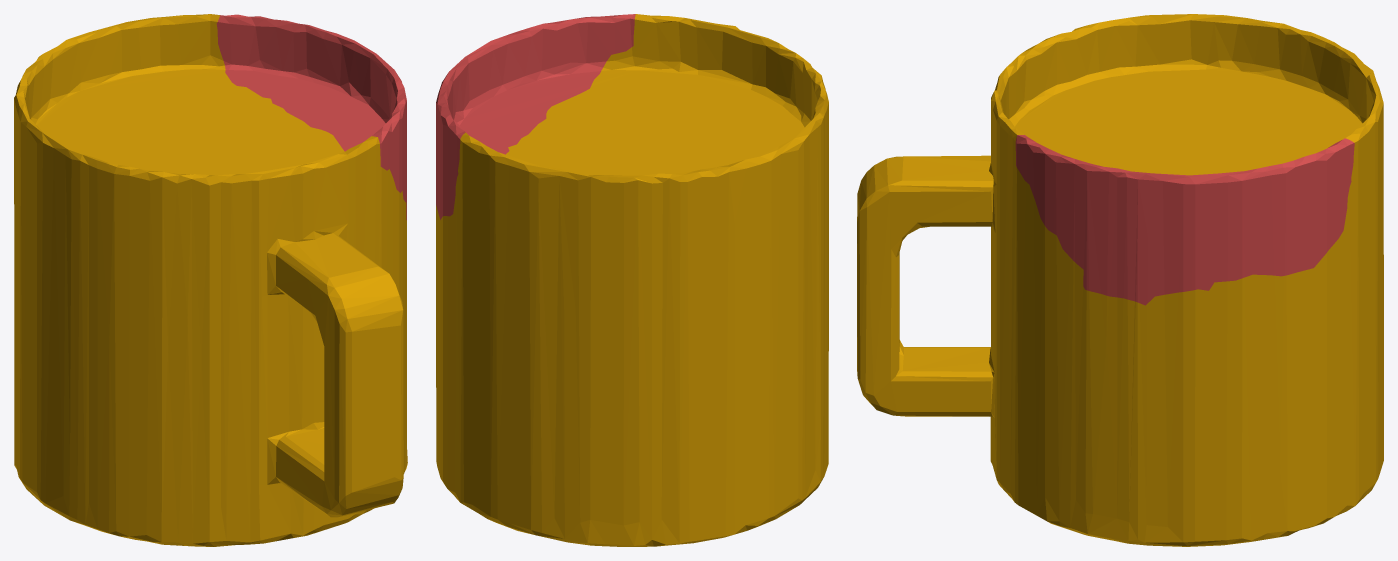
The model's file is fractured_11_2pcs.glb.
3 renders of one model, left to right at view 1: azimuth 30°, elevation 25°; view 2: azimuth 150°, elevation 25°; view 3: azimuth 270°, elevation 25°, orthographic.
Parts seen in each view (by area): view 1: piece_0.obj, piece_1.obj; view 2: piece_0.obj, piece_1.obj; view 3: piece_0.obj, piece_1.obj.
Boxes of the visible parts, x1=… form: piece_0.obj: x1=14, y1=14, x2=407, y2=546; piece_1.obj: x1=216, y1=14, x2=406, y2=220; piece_0.obj: x1=436, y1=14, x2=828, y2=546; piece_1.obj: x1=436, y1=14, x2=635, y2=219; piece_0.obj: x1=857, y1=14, x2=1383, y2=546; piece_1.obj: x1=1015, y1=135, x2=1354, y2=305.
Bounding box in the file's own units: 0.7449 × 0.7817 × 1.
